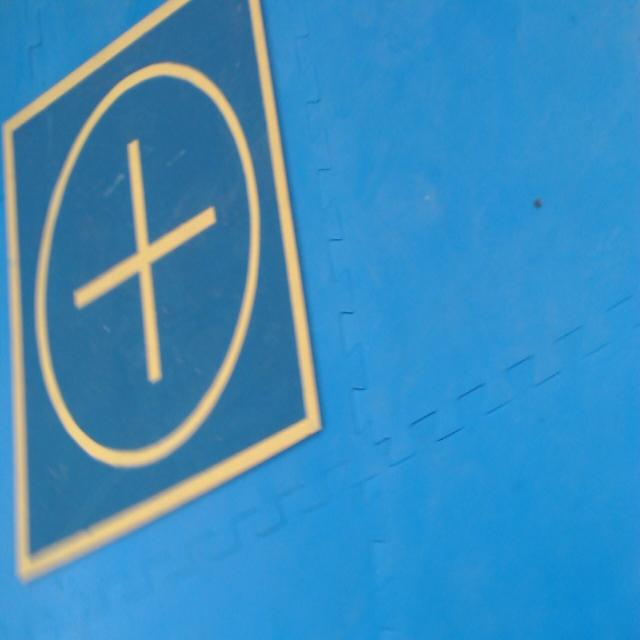base_pouso: (2, 0, 326, 586)
